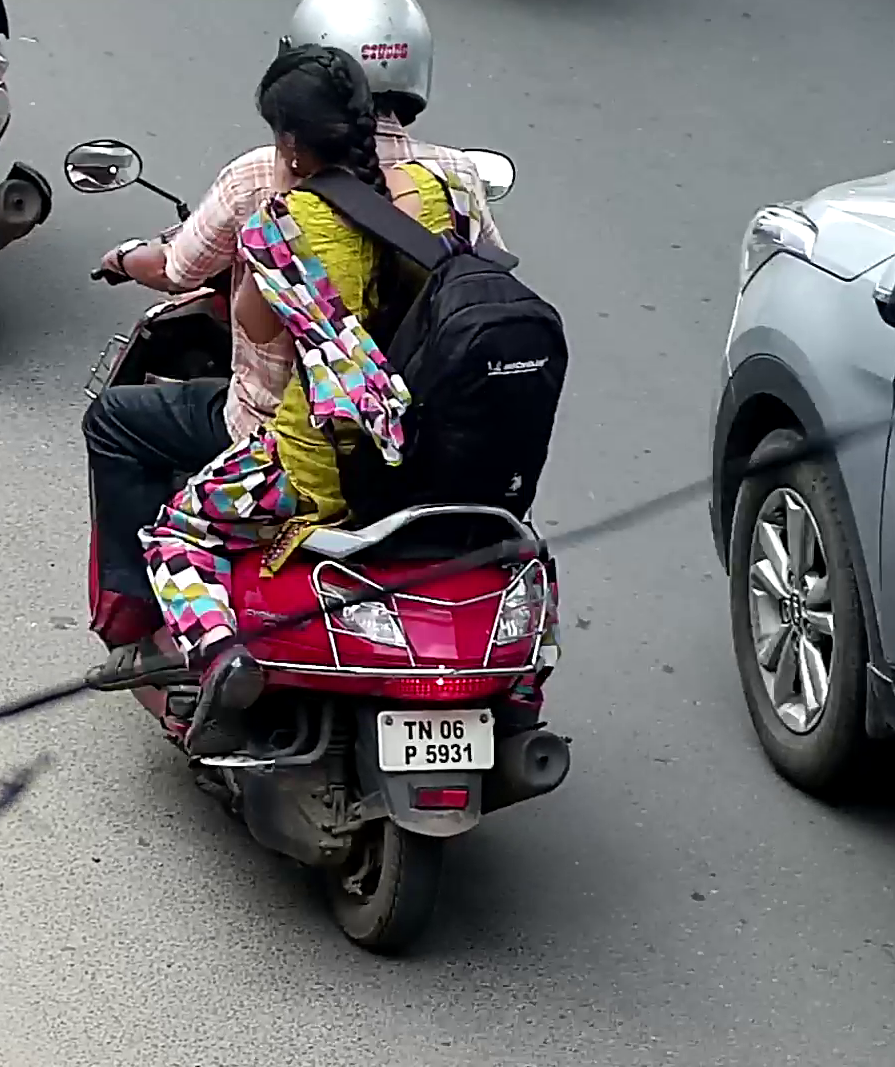0: (439, 720, 452, 739)
1: (462, 742, 472, 763)
3: (450, 743, 462, 763)
5: (425, 744, 437, 764)
6: (453, 719, 464, 739)
9: (437, 744, 449, 764)
N: (418, 719, 432, 740)
P: (404, 745, 418, 765)
P16: (376, 708, 496, 774)
T: (403, 720, 417, 740)
